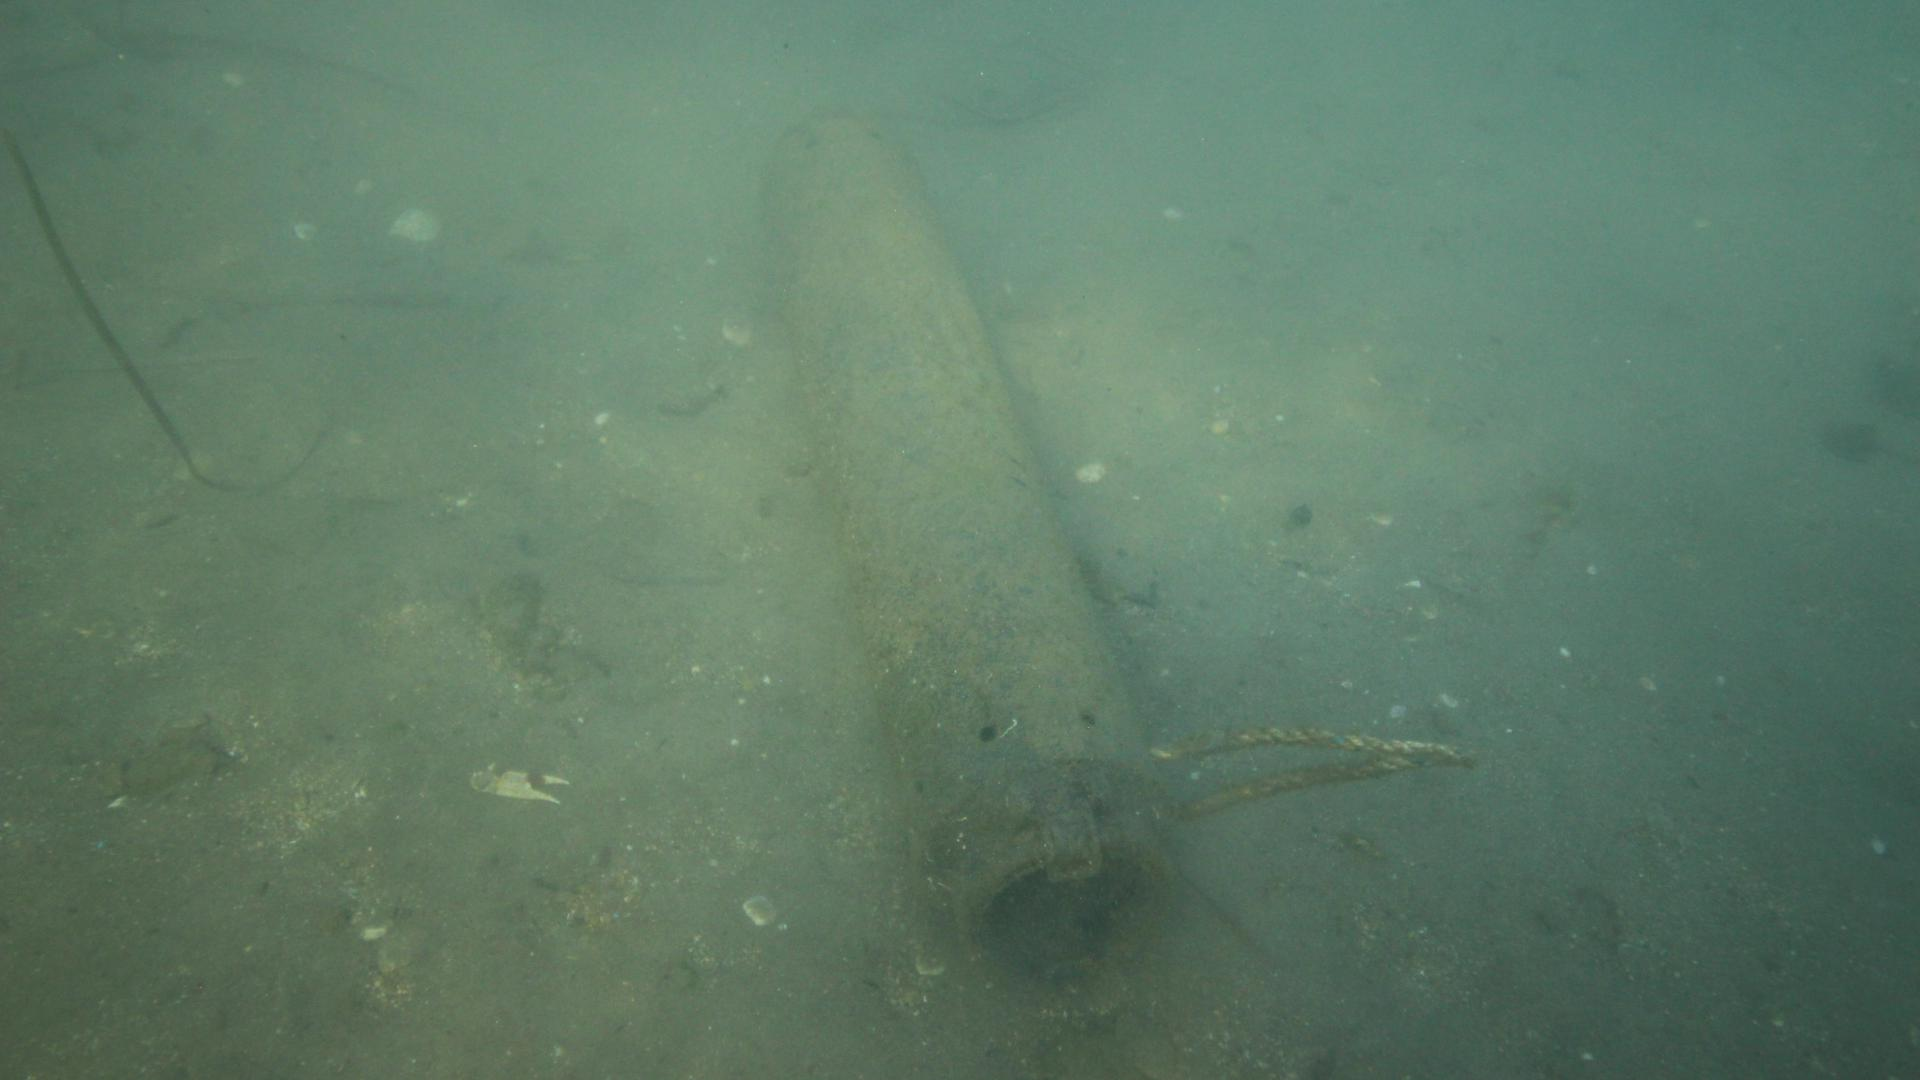eel fish trap: (760, 111, 1163, 985)
rope: (1151, 725, 1477, 824)
